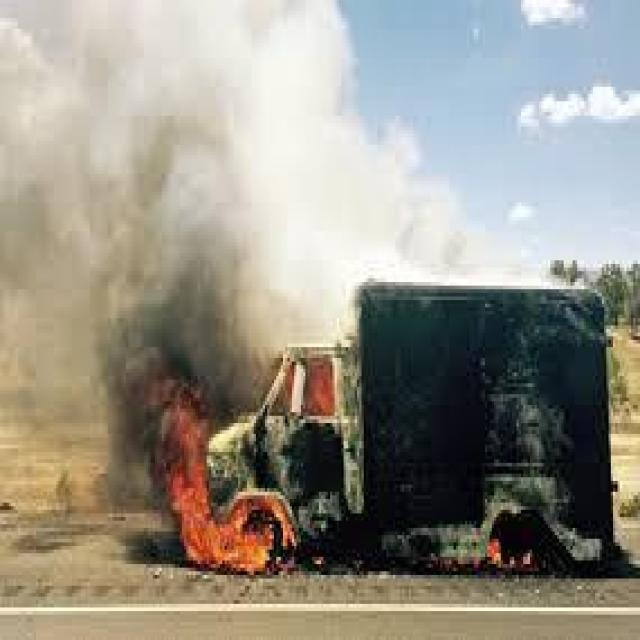fire: (161, 401, 292, 578), (460, 515, 531, 576), (281, 358, 346, 412)
smoke: (61, 202, 269, 402)
